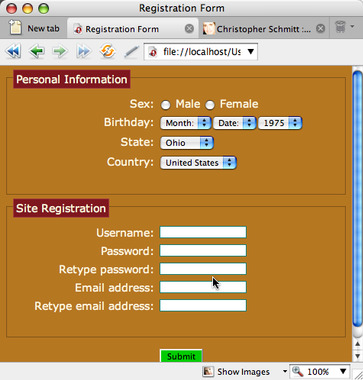_form_: (1, 1, 363, 380)
button: (160, 346, 205, 364)
field: (144, 41, 260, 62), (156, 224, 248, 240), (156, 243, 248, 258), (156, 280, 248, 294), (156, 261, 247, 275), (157, 299, 247, 313)
field_with_label: (34, 297, 250, 316), (58, 260, 248, 277), (75, 279, 250, 295), (96, 222, 249, 240), (100, 242, 250, 259), (106, 153, 240, 171), (104, 115, 211, 132), (119, 134, 215, 152)
radio: (159, 99, 173, 111), (204, 99, 216, 112)
radio_with_label: (205, 98, 259, 112), (129, 97, 175, 112), (158, 97, 201, 112)
select: (158, 155, 237, 169), (158, 136, 213, 151), (160, 115, 211, 131), (212, 115, 258, 130), (258, 116, 303, 131)
